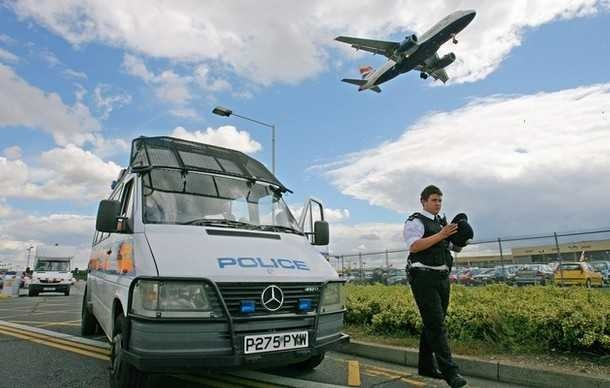Police Car: (112, 144, 362, 381)
